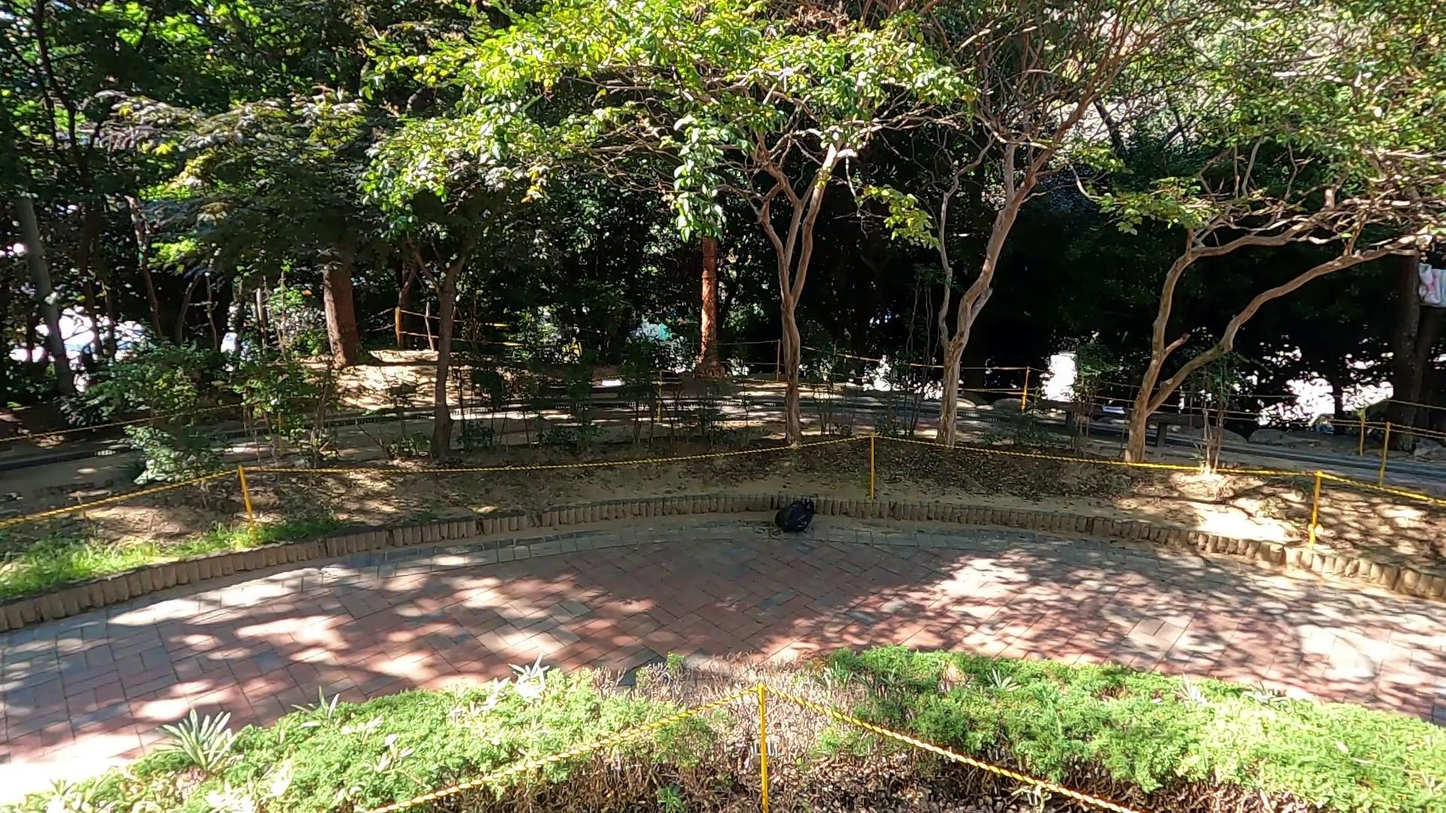trash: (771, 494, 819, 539)
